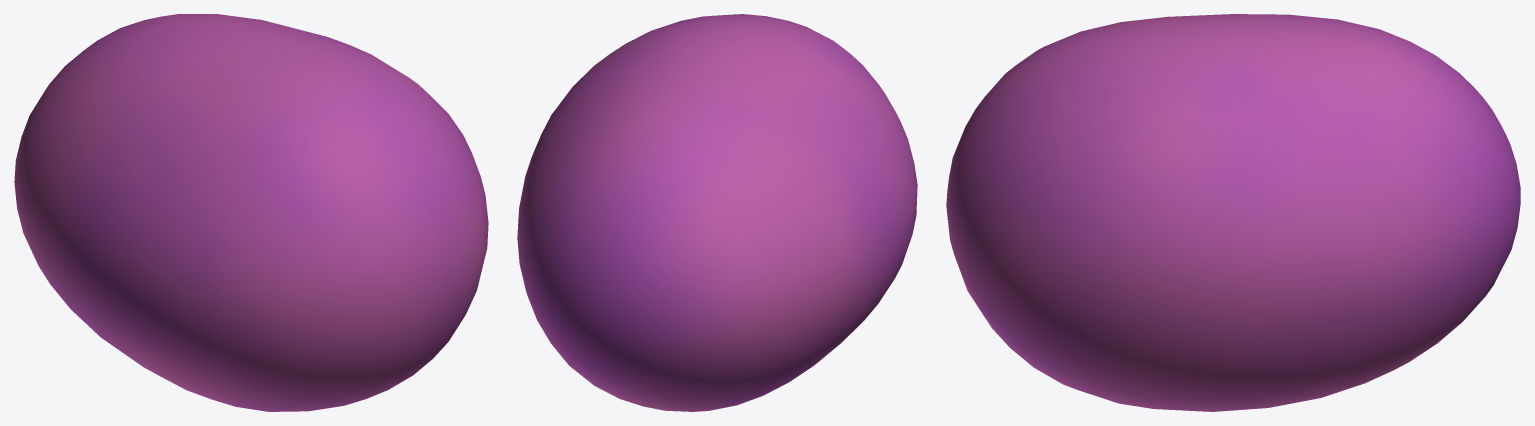
The model's file is goop-blob1.glb.
3 views of the same model, side by side, from view 1: azimuth 30°, elevation 25°; view 2: azimuth 150°, elevation 25°; view 3: azimuth 270°, elevation 25° (orthographic). The views are drawn at different scales.
Visible parts, largest first — view 1: body; view 2: body; view 3: body.
Part boxes in pixels (x1,y1,x2,y2): body: (14,14,488,411); body: (517,14,917,411); body: (946,14,1520,411).
Size of the model in its own units: 0.1499 by 0.1362 by 0.1953.
